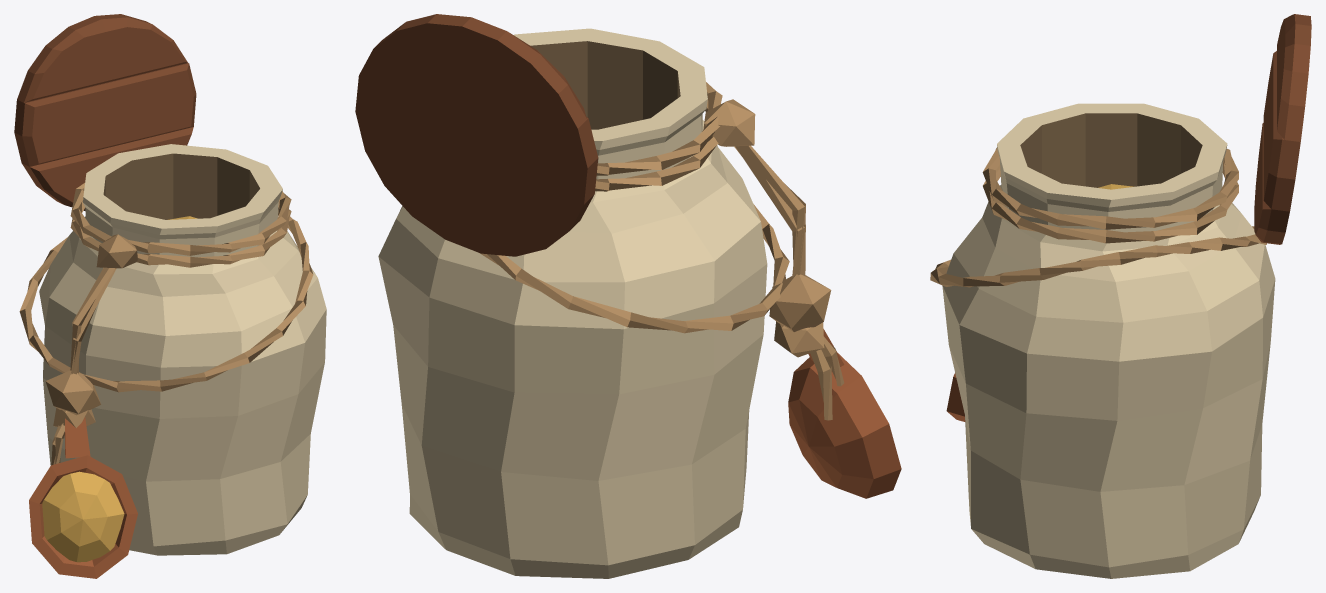
The model's file is ration-partial.glb.
3 views of the same model, side by side, from view 1: azimuth 30°, elevation 25°; view 2: azimuth 150°, elevation 25°; view 3: azimuth 270°, elevation 25° (orthographic). The views are drawn at different scales.
Parts seen in each view (by area): view 1: jar, lid, rope, grain_scoop, scoop; view 2: jar, lid, rope, scoop; view 3: jar, rope, lid, scoop.
Part boxes in pixels (x1=…): jar: x1=39, y1=144, x2=326, y2=555; lid: x1=14, y1=14, x2=196, y2=210; rope: x1=19, y1=183, x2=313, y2=465; grain_scoop: x1=42, y1=471, x2=124, y2=562; scoop: x1=29, y1=417, x2=137, y2=578; jar: x1=378, y1=28, x2=767, y2=578; lid: x1=355, y1=14, x2=598, y2=256; rope: x1=479, y1=82, x2=844, y2=420; scoop: x1=788, y1=329, x2=901, y2=498; jar: x1=942, y1=103, x2=1275, y2=578; rope: x1=930, y1=147, x2=1266, y2=287; lid: x1=1254, y1=14, x2=1311, y2=244; scoop: x1=946, y1=373, x2=965, y2=421.
Bounding box in the file's own units: 0.5101 × 0.653 × 0.4553.
